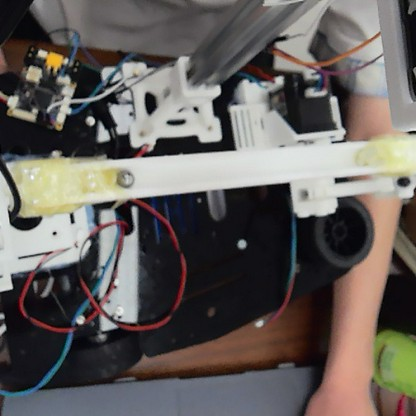ironball: (113, 165, 137, 190)
